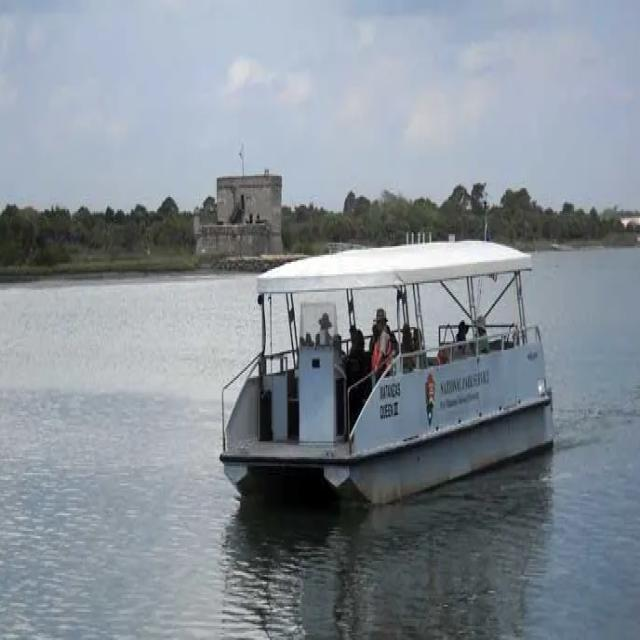houseboat: (212, 204, 563, 501)
